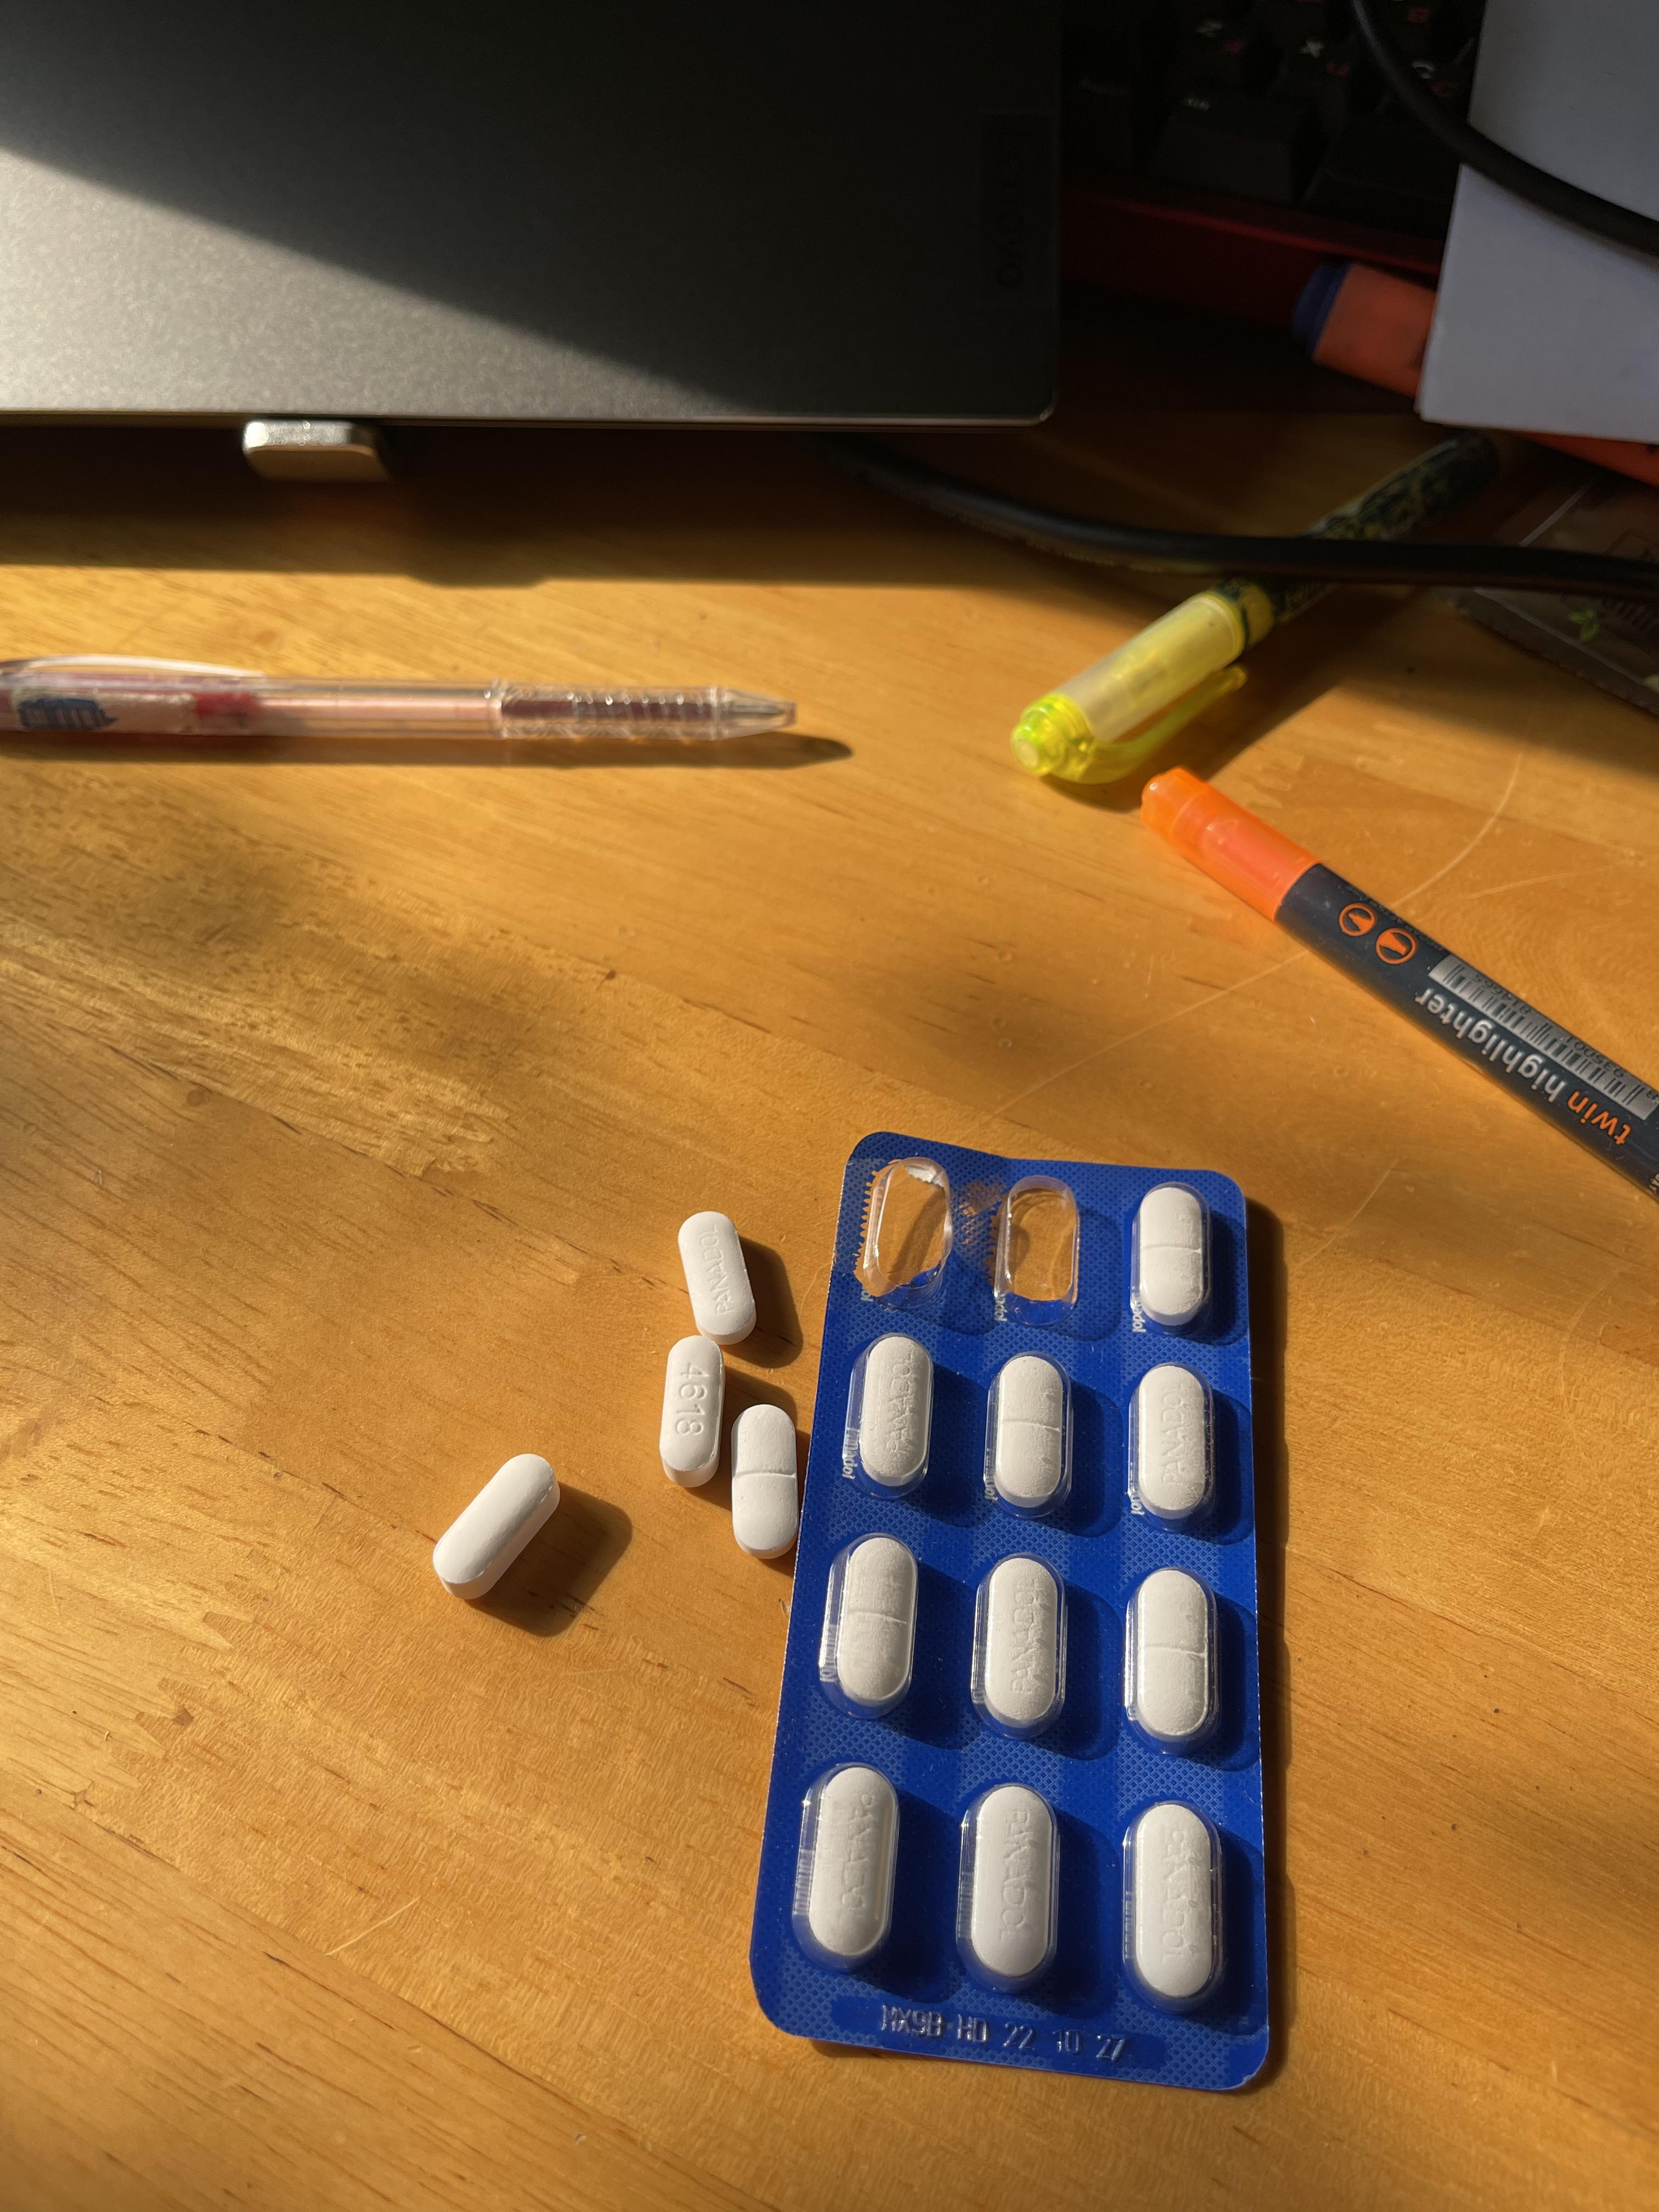Paracetamol_350mg: (962, 1784, 1061, 1989), (800, 1764, 899, 1965), (1126, 1803, 1222, 2008), (1127, 1568, 1220, 1749), (974, 1555, 1068, 1733), (830, 1534, 917, 1709), (1131, 1364, 1215, 1524), (986, 1355, 1068, 1512), (854, 1334, 931, 1487), (732, 1402, 800, 1557), (1134, 1184, 1208, 1327), (678, 1212, 755, 1346)
Paracetamol_500mg: (432, 1453, 559, 1602), (660, 1334, 728, 1487)
